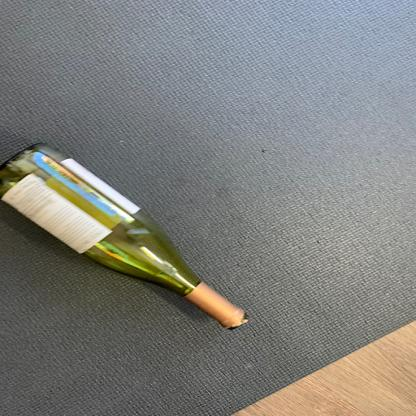trash: (2, 142, 254, 336)
